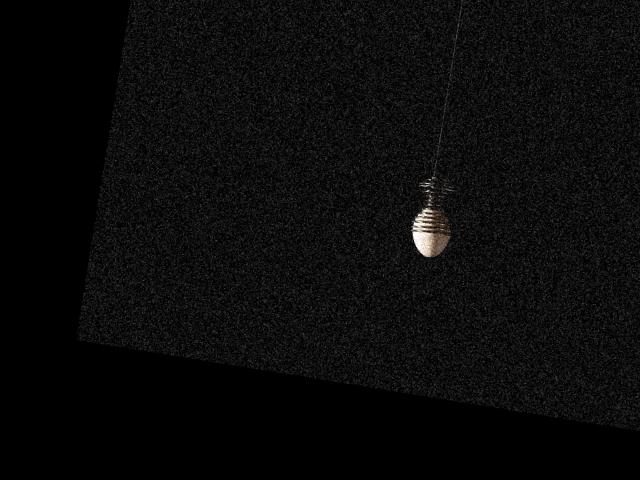egg: (407, 205, 453, 260)
